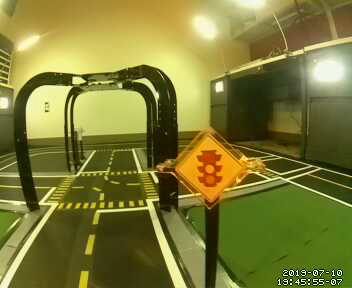Traffic light sign: (176, 132, 244, 204)
